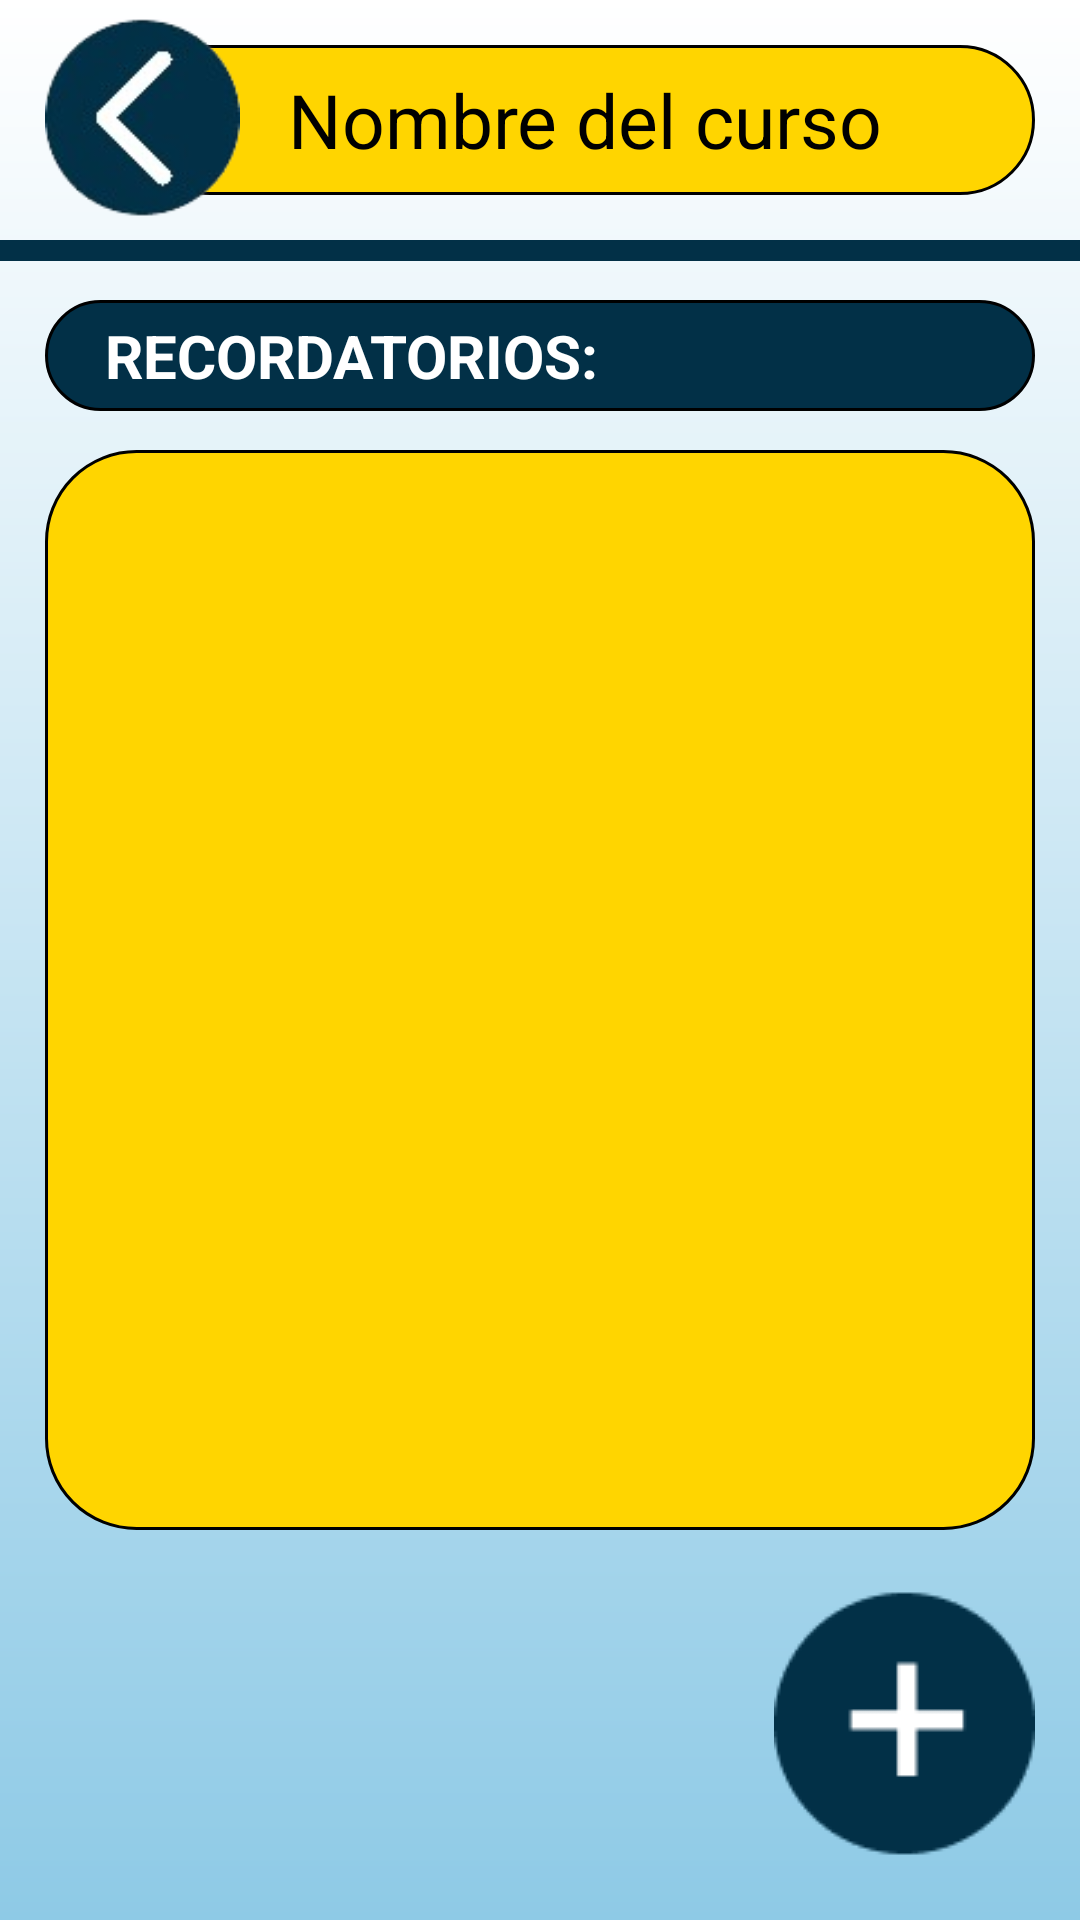

Point at icon controls on the screen. Image size 1080×1920, points as (x,y).
back: (120,120)
mas: (904,1723)
